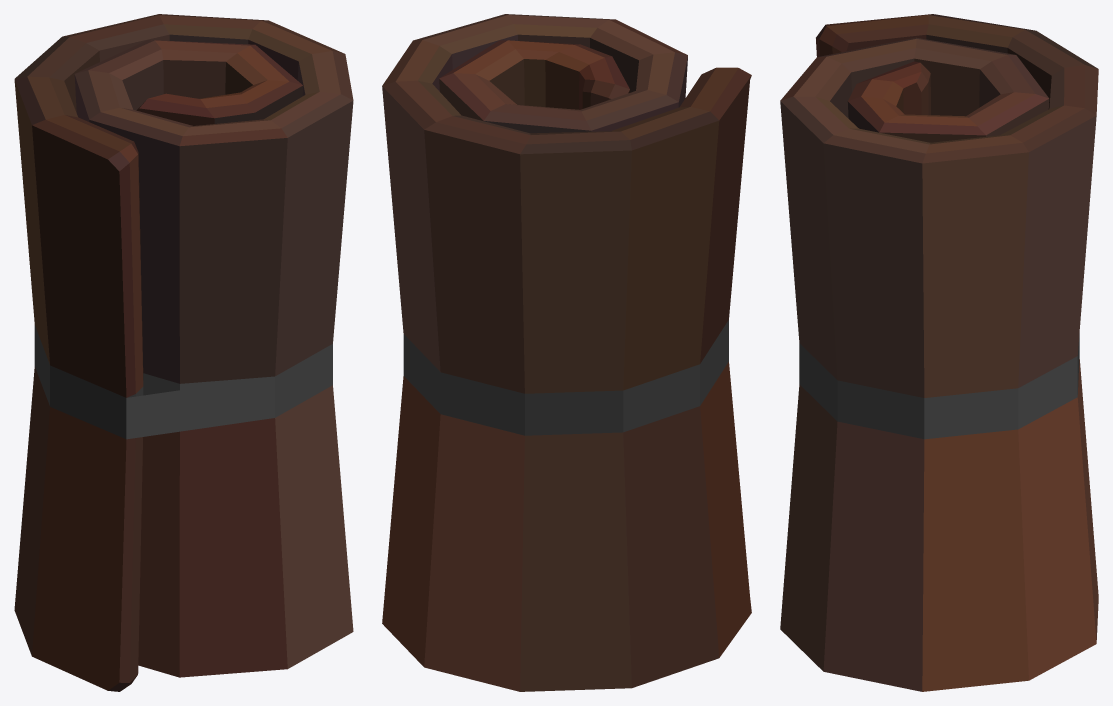
File: Prop_MatRolled.fbx
3 renders of one model, left to right at view 1: azimuth 30°, elevation 25°; view 2: azimuth 150°, elevation 25°; view 3: azimuth 270°, elevation 25°, orthographic.
Parts seen in each view (by area): view 1: Prop_MatRolled; view 2: Prop_MatRolled; view 3: Prop_MatRolled.
Part boxes in pixels (x1,y1,x2,y2): Prop_MatRolled: (14,14,353,691); Prop_MatRolled: (382,14,751,691); Prop_MatRolled: (780,14,1098,691).
Bounding box in the file's own units: 60.68 × 102 × 54.63.
